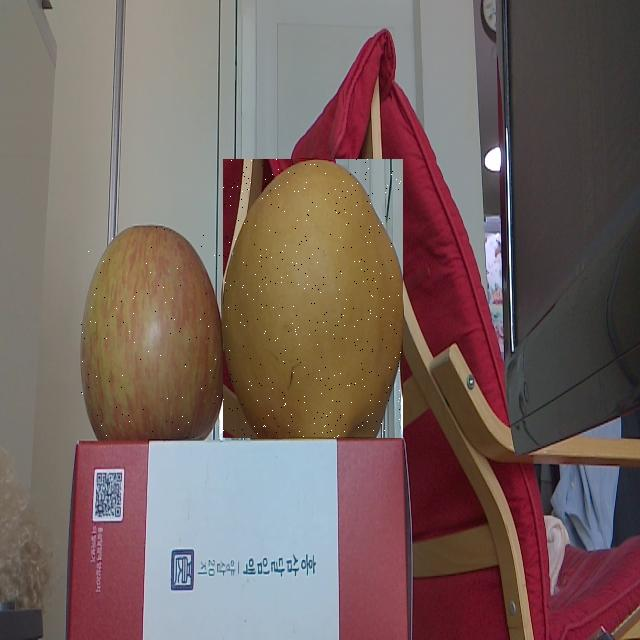apple: (81, 226, 221, 438)
pear: (223, 159, 403, 438)
